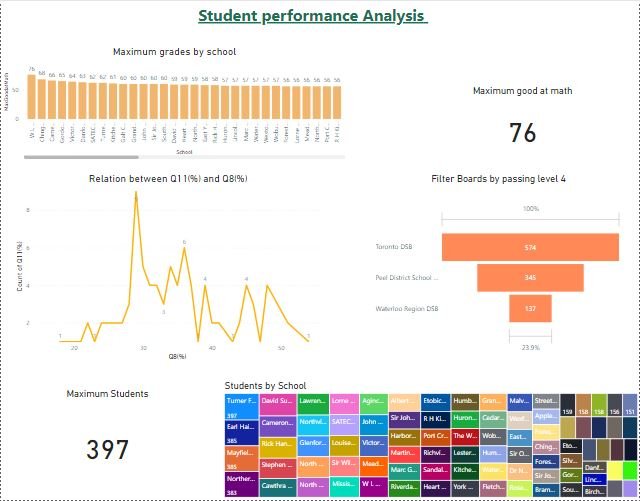

Layout of this report page (visuals, bound fields, positions):
{"tool":"powerbi","page":{"name":"Page 4","canvas":[1280,1000],"ordinal":3},"visuals":[{"type":"textbox","box":[359.3,0,533.9,90.9],"z":0},{"type":"card","title":"Maximum Students","fields":{"Values":["MeasuresTable.MaxStudents"]},"box":[18,775.6,390.8,210.4],"z":1},{"type":"treemap","title":"Students by School","fields":{"Group":["Data destination.School"],"Values":["MeasuresTable.MaxStudents"]},"box":[442.9,759.5,837.7,240.5],"z":2},{"type":"funnel","title":"Filter Boards by passing level 4","fields":{"Y":["MeasuresTable.sunbydestination"],"Category":["Data destination.Board"]},"box":[745.5,344.7,503,396.8],"z":3},{"type":"card","title":"Maximum good at math","fields":{"Values":["MeasuresTable.MaxGoodatMath"]},"box":[891.8,168.3,306.6,154.3],"z":4},{"type":"clusteredColumnChart","title":"Maximum grades by school","fields":{"Y":["MeasuresTable.MaxGoodatMath"],"Category":["Data destination.School"]},"box":[0,90.2,695.4,232.5],"z":5},{"type":"lineChart","title":"Relation between Q11(%) and Q8(%)","fields":{"Category":["Data destination.Q8(%)"],"Y":["CountNonNull(Data destination.Q11(%))"]},"box":[24,344.7,621.2,380.8],"z":6}]}

Visuals, with their boxes in screenshot pixels (x1, y1, x2, y2), scaled from the page's 1280x1000 canvas onto the 640x501 screenshot:
textbox: box(180, 0, 447, 46)
"Maximum Students" card: box(9, 389, 204, 494)
"Students by School" treemap: box(221, 381, 639, 500)
"Filter Boards by passing level 4" funnel: box(373, 173, 624, 371)
"Maximum good at math" card: box(446, 84, 599, 162)
"Maximum grades by school" clusteredColumnChart: box(0, 45, 348, 162)
"Relation between Q11(%) and Q8(%)" lineChart: box(12, 173, 323, 363)
